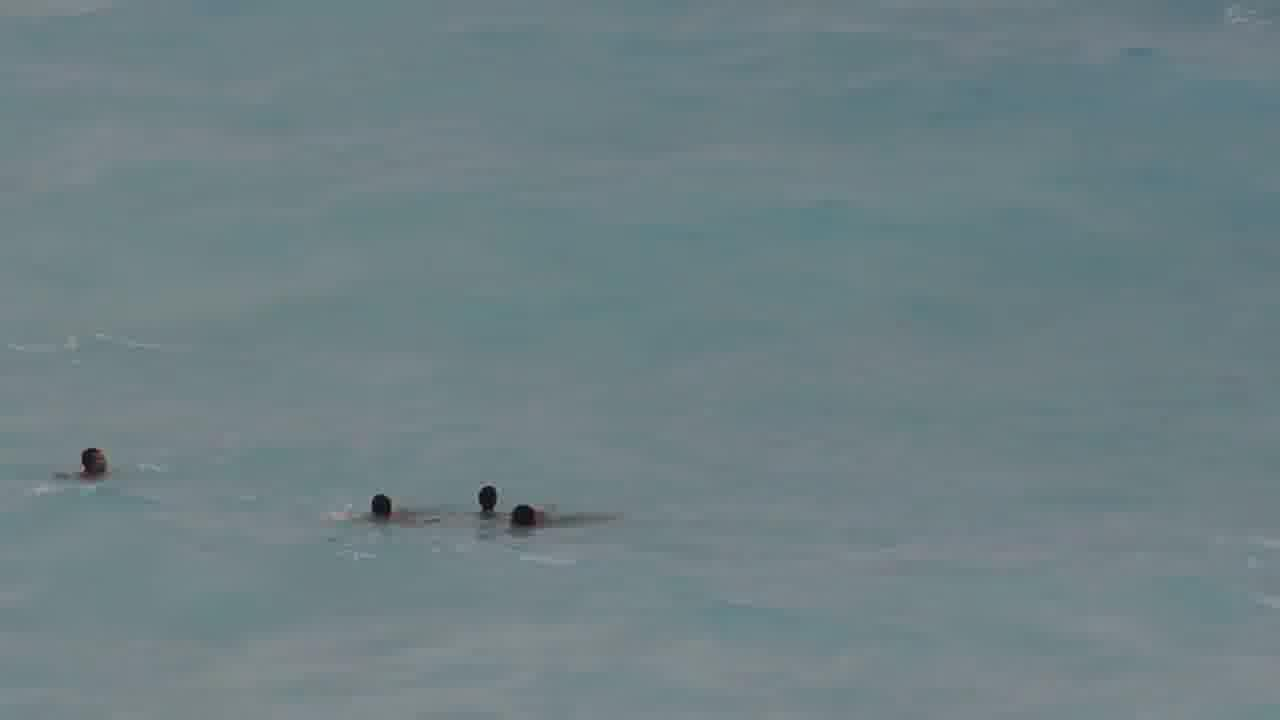swimmer: (343, 481, 422, 531), (46, 441, 115, 484), (504, 498, 574, 532), (464, 482, 508, 520)
